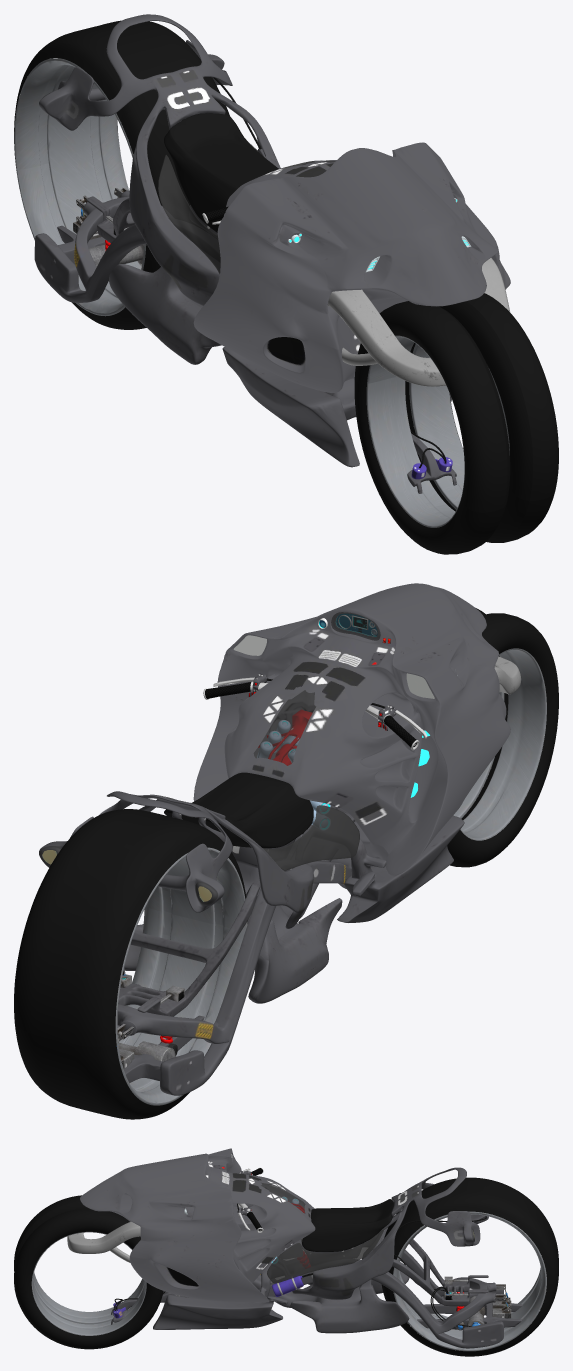
Rendered from bike.glb.
The picture shows the model from 3 angles, top to bottom: view 1: azimuth 30°, elevation 25°; view 2: azimuth 150°, elevation 25°; view 3: azimuth 270°, elevation 25°; orthographic projection. The views are drawn at different scales.
Visible parts, largest first — view 1: Cube.028_cor_base02.004_0, Cube.001_Pneu_0, Cube.004_roda_0, Cube.002_cor_base02_0, NurbsPath.002_DefaultMaterial.001_0, Cube.021_cor_base02.003_0, Cube.007_metal02.002_0, Cube.030_metal02.003_0, Cube.014_vidro_0, Cube.022_DefaultMaterial_0, Cube.009_Cromo_0; view 2: Cube.028_cor_base02.004_0, Cube.001_Pneu_0, Cube.004_roda_0, Cube.002_cor_base02_0, Cube.021_cor_base02.003_0, Cube.007_metal02.002_0, Cube.014_vidro_0, NurbsPath.002_DefaultMaterial.001_0, Cube.027_Cromo.004_0, Cube.009_Cromo_0, Cube.023_espelho_0, Cube.011_borracha.001_0 (+2 smaller); view 3: Cube.028_cor_base02.004_0, Cube.001_Pneu_0, Cube.002_cor_base02_0, Cube.021_cor_base02.003_0, Cube.004_roda_0, Cube.007_metal02.002_0, NurbsPath.002_DefaultMaterial.001_0, Cube.014_vidro_0, Cube.030_metal02.003_0, Cube.009_Cromo_0, Cube.022_DefaultMaterial_0.
Part boxes in pixels (bbox=[...]): Cube.028_cor_base02.004_0: bbox=[193, 142, 510, 392]; Cube.001_Pneu_0: bbox=[14, 20, 558, 554]; Cube.004_roda_0: bbox=[14, 58, 509, 527]; Cube.002_cor_base02_0: bbox=[39, 14, 451, 467]; NurbsPath.002_DefaultMaterial.001_0: bbox=[164, 77, 446, 468]; Cube.021_cor_base02.003_0: bbox=[86, 196, 221, 364]; Cube.007_metal02.002_0: bbox=[34, 190, 356, 420]; Cube.030_metal02.003_0: bbox=[327, 258, 510, 386]; Cube.014_vidro_0: bbox=[42, 92, 314, 274]; Cube.022_DefaultMaterial_0: bbox=[407, 433, 456, 493]; Cube.009_Cromo_0: bbox=[73, 187, 144, 267]; Cube.028_cor_base02.004_0: bbox=[193, 583, 510, 875]; Cube.001_Pneu_0: bbox=[14, 608, 558, 1119]; Cube.004_roda_0: bbox=[115, 648, 546, 1105]; Cube.002_cor_base02_0: bbox=[39, 791, 464, 928]; Cube.021_cor_base02.003_0: bbox=[117, 859, 342, 1016]; Cube.007_metal02.002_0: bbox=[117, 858, 351, 1095]; Cube.014_vidro_0: bbox=[39, 612, 380, 905]; NurbsPath.002_DefaultMaterial.001_0: bbox=[122, 678, 385, 975]; Cube.027_Cromo.004_0: bbox=[257, 709, 330, 824]; Cube.009_Cromo_0: bbox=[117, 974, 184, 1068]; Cube.023_espelho_0: bbox=[233, 635, 457, 698]; Cube.011_borracha.001_0: bbox=[205, 682, 416, 747]; Cube.028_cor_base02.004_0: bbox=[80, 1148, 315, 1302]; Cube.001_Pneu_0: bbox=[14, 1177, 558, 1356]; Cube.002_cor_base02_0: bbox=[153, 1167, 488, 1329]; Cube.021_cor_base02.003_0: bbox=[252, 1227, 488, 1333]; Cube.004_roda_0: bbox=[31, 1211, 546, 1351]; Cube.007_metal02.002_0: bbox=[258, 1240, 522, 1348]; NurbsPath.002_DefaultMaterial.001_0: bbox=[114, 1199, 486, 1326]; Cube.014_vidro_0: bbox=[261, 1183, 474, 1283]; Cube.030_metal02.003_0: bbox=[67, 1221, 140, 1262]; Cube.009_Cromo_0: bbox=[444, 1276, 511, 1330]; Cube.022_DefaultMaterial_0: bbox=[111, 1275, 462, 1324].
Bounding box in the file's own units: 27813 × 37077 × 95435.
Materials: 30 (20 with a texture image).
